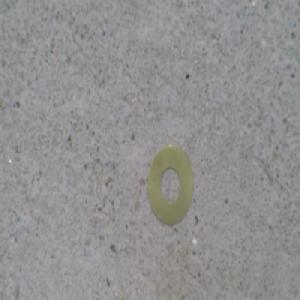Washer: (146, 142, 194, 229)
